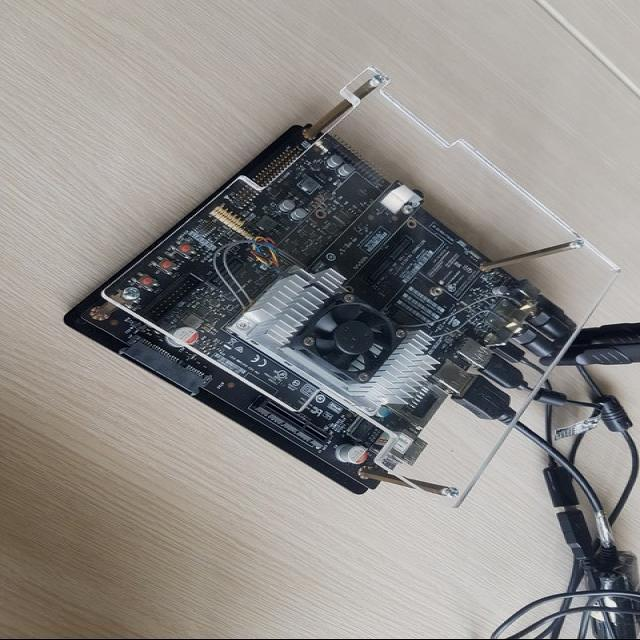Jetson TX2: (65, 126, 640, 494)
